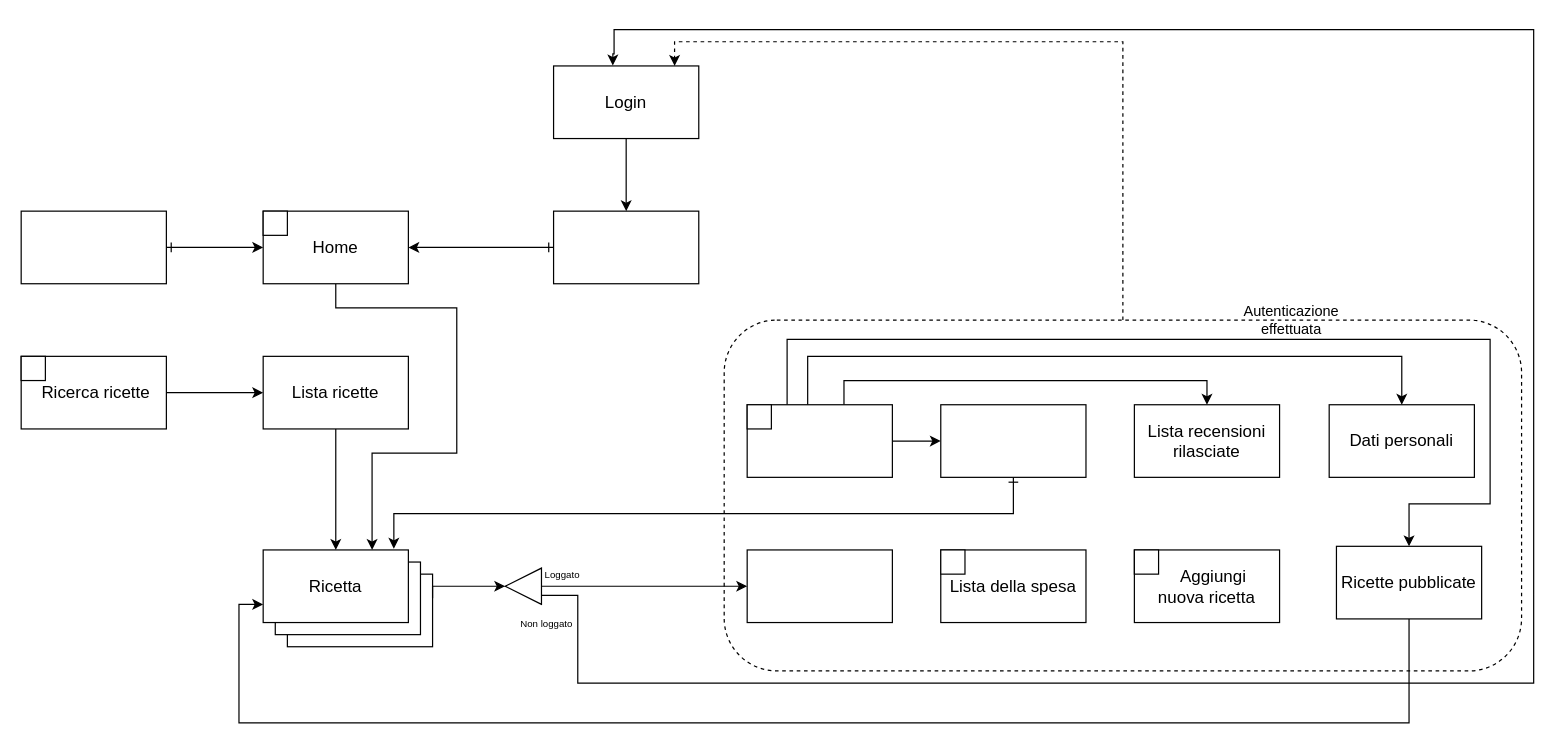
Image size: 1565x754. Some labels were removed from this diagram. Here are the shapes that lost their labels. From the top down, the box of each, then its label:
(20, 210, 166, 284): Pagina di caricamento
(552, 210, 699, 284): Registrazione
(746, 404, 892, 477): Profilo
(940, 404, 1086, 477): Ricettario
(746, 549, 892, 623): Recensisci ricetta
